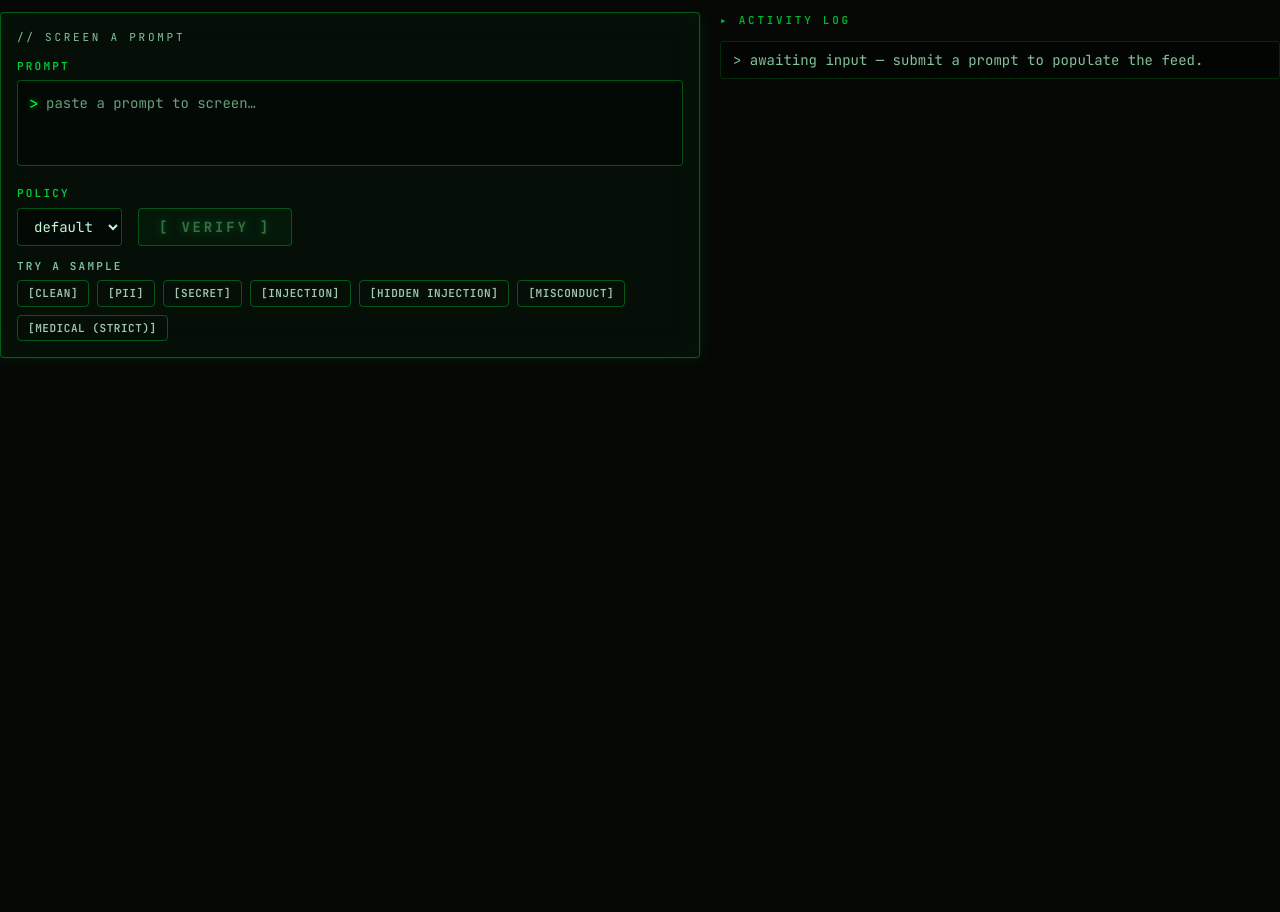
Scenario: Dashboard orchestration › runs verify → feed → replay → renew end to end
// Verify: a verdict card renders and a feed row appears.
In the text box labelled "Prompt": [350, 123] box [17, 80, 683, 166], type "hello world"
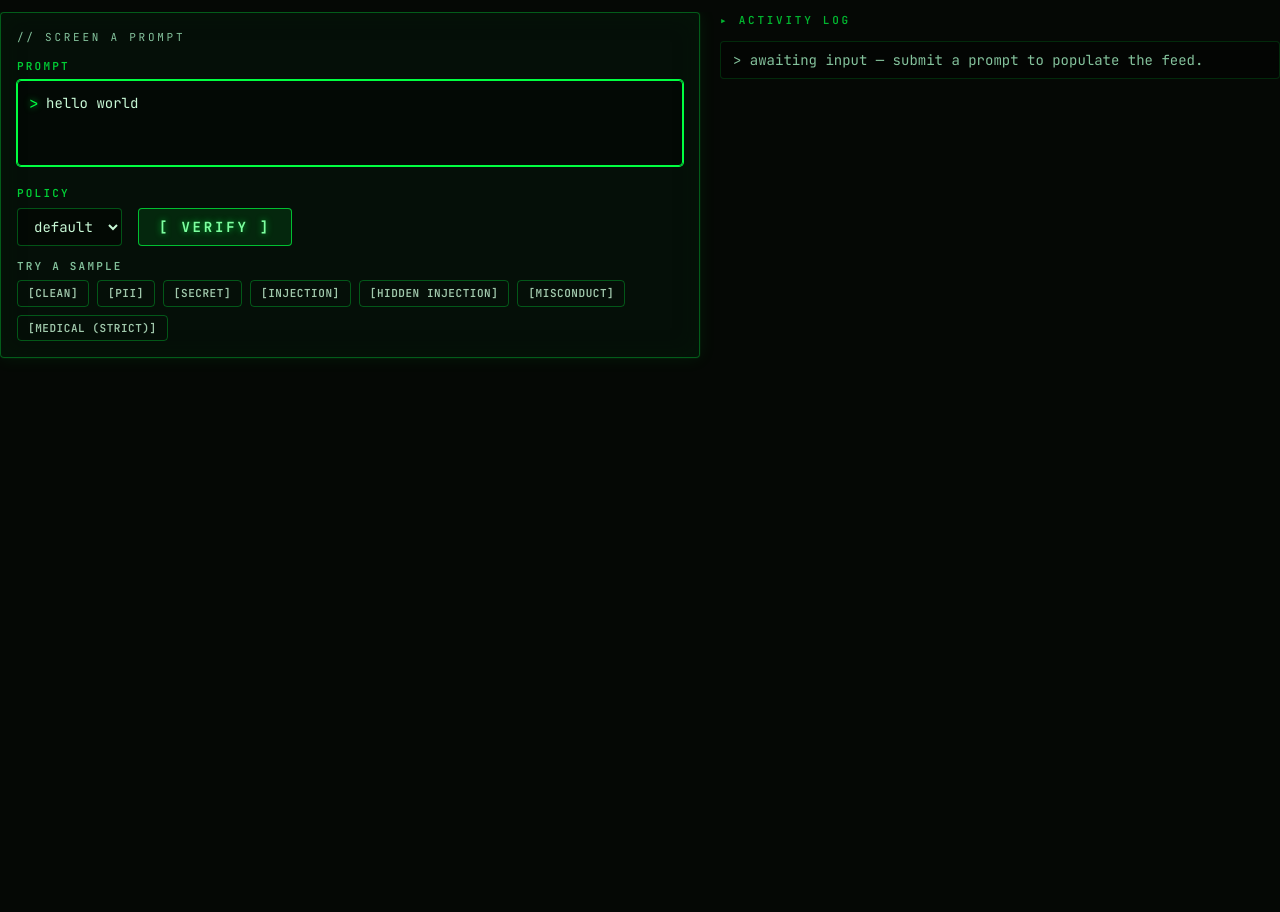
Click the button "[ Verify ]": [215, 226] box [138, 208, 292, 246]
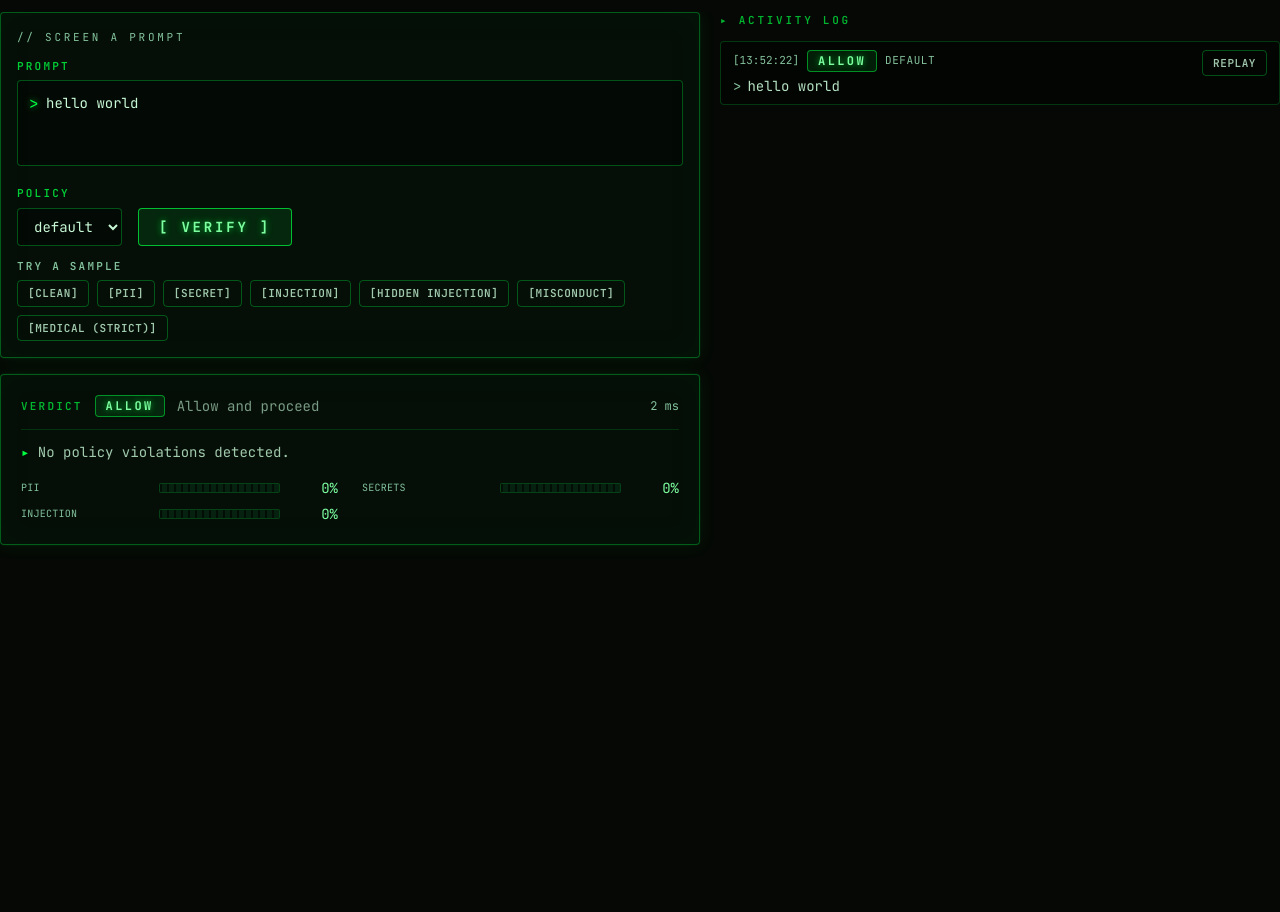
Now the element with test id "verdict-card" is shown, box [0, 374, 700, 545]
Now the list with test id "activity-feed" shows "hello world", box [733, 76, 1190, 96]
// Open replay for that feed row → replay controls appear.
Click the button "Replay": [1235, 63] box [1202, 50, 1267, 76]
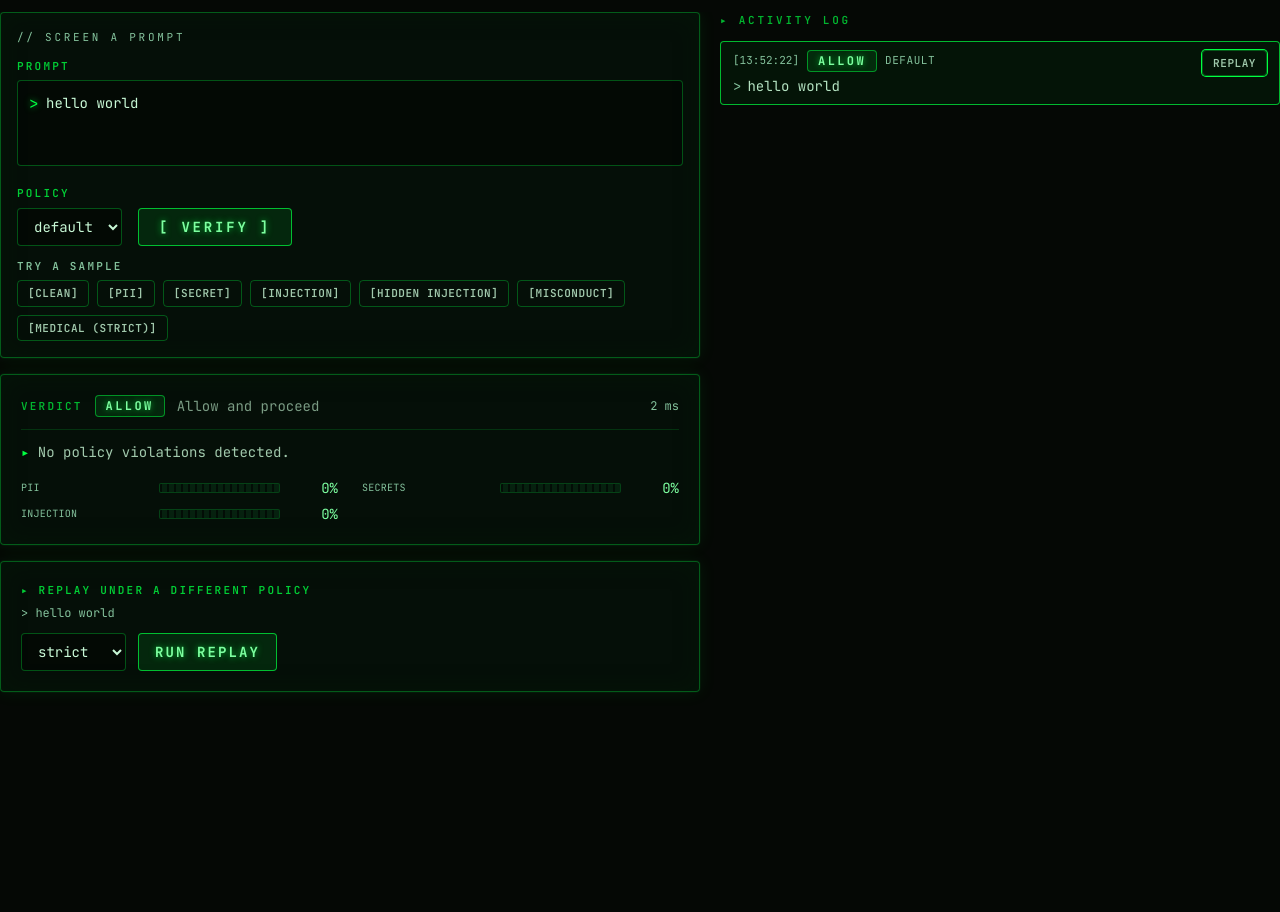
// Run replay → the comparison view renders.
Click the button "Run replay": [208, 652] box [138, 632, 277, 670]
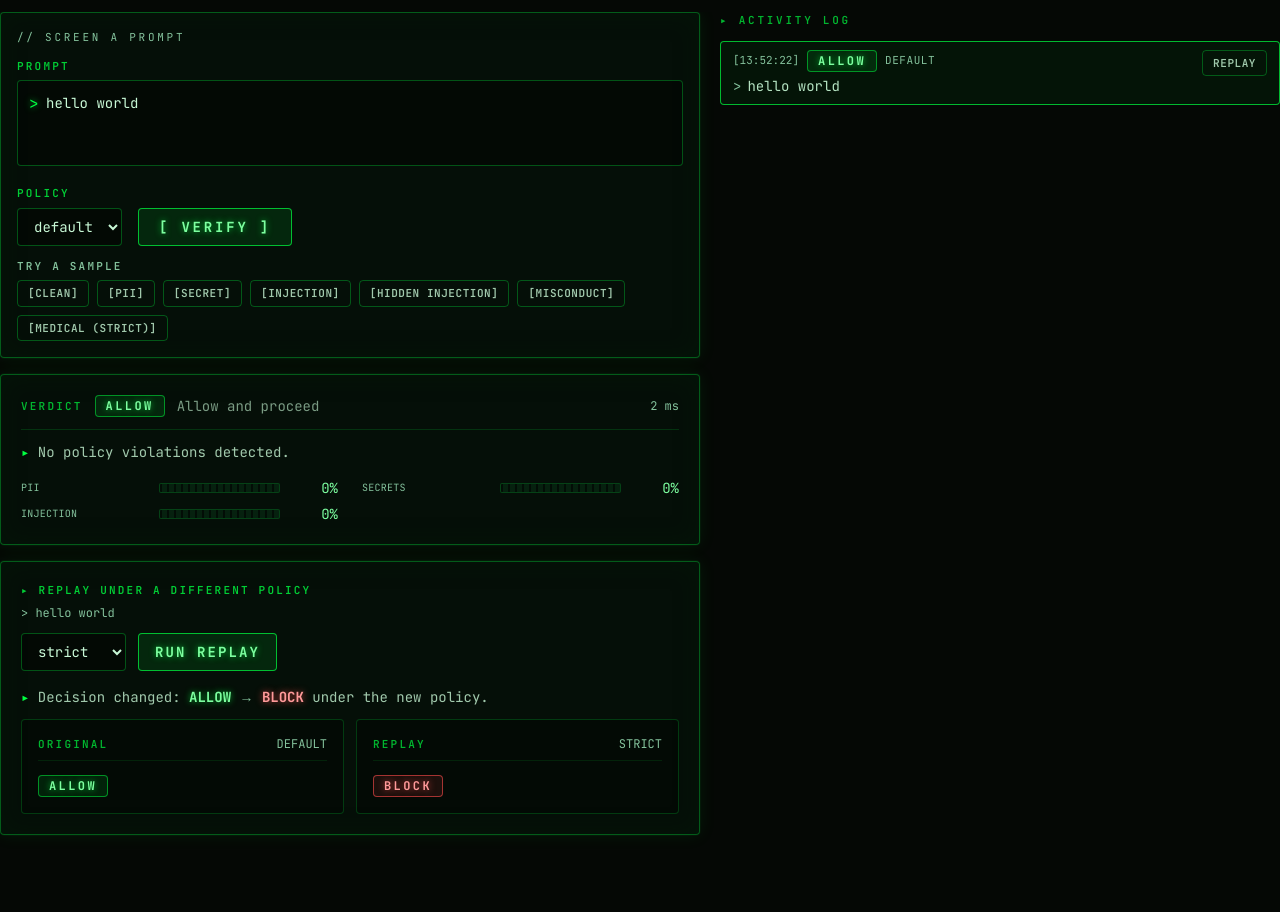
Now the element with test id "replay-summary" shows "Decision changed", box [38, 688, 181, 706]
// Renew: a fresh verify clears the open replay comparison.
Replace the text in the text box labelled "Prompt" with "second prompt": [350, 123] box [17, 80, 683, 166]
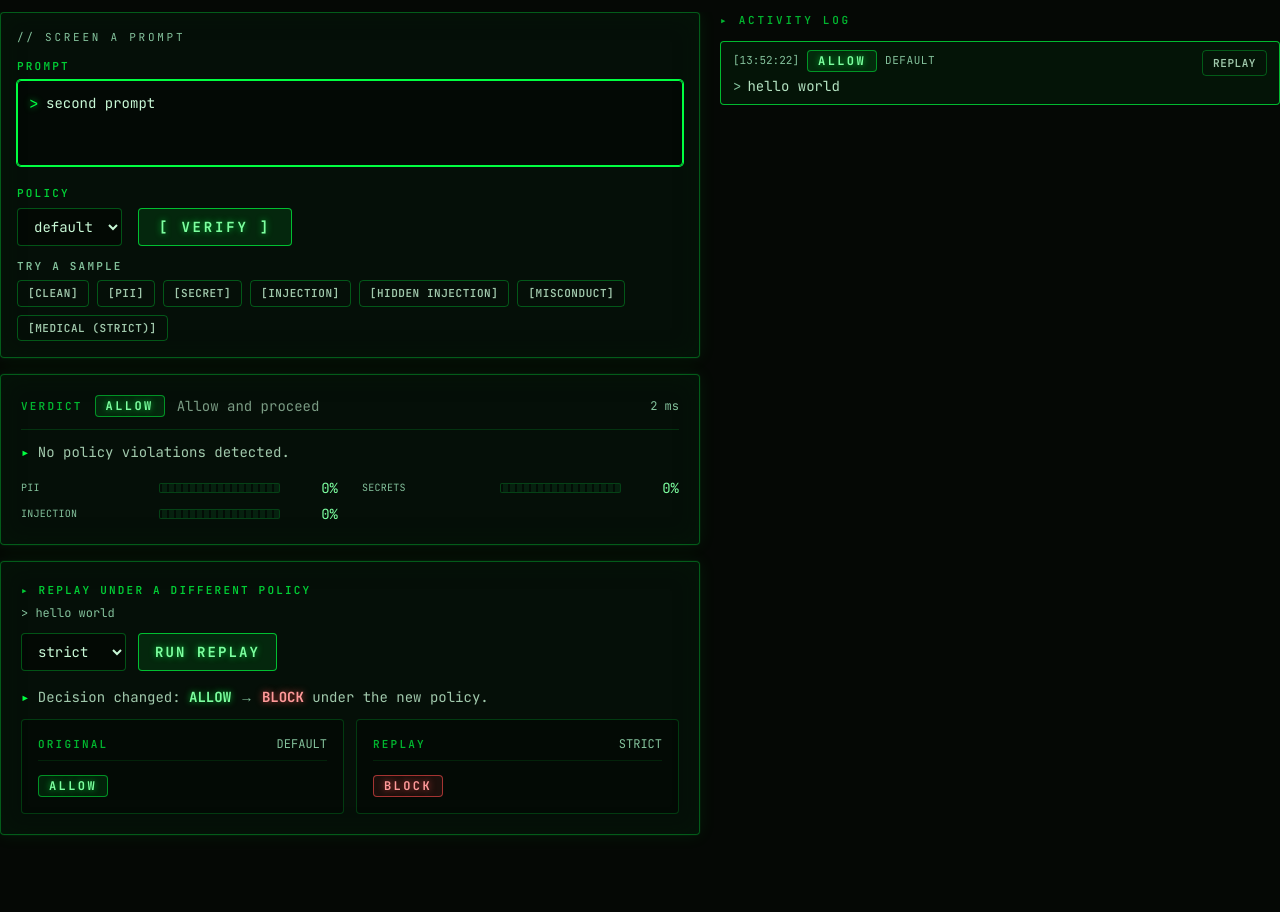
Click the button "[ Verify ]": [215, 226] box [138, 208, 292, 246]
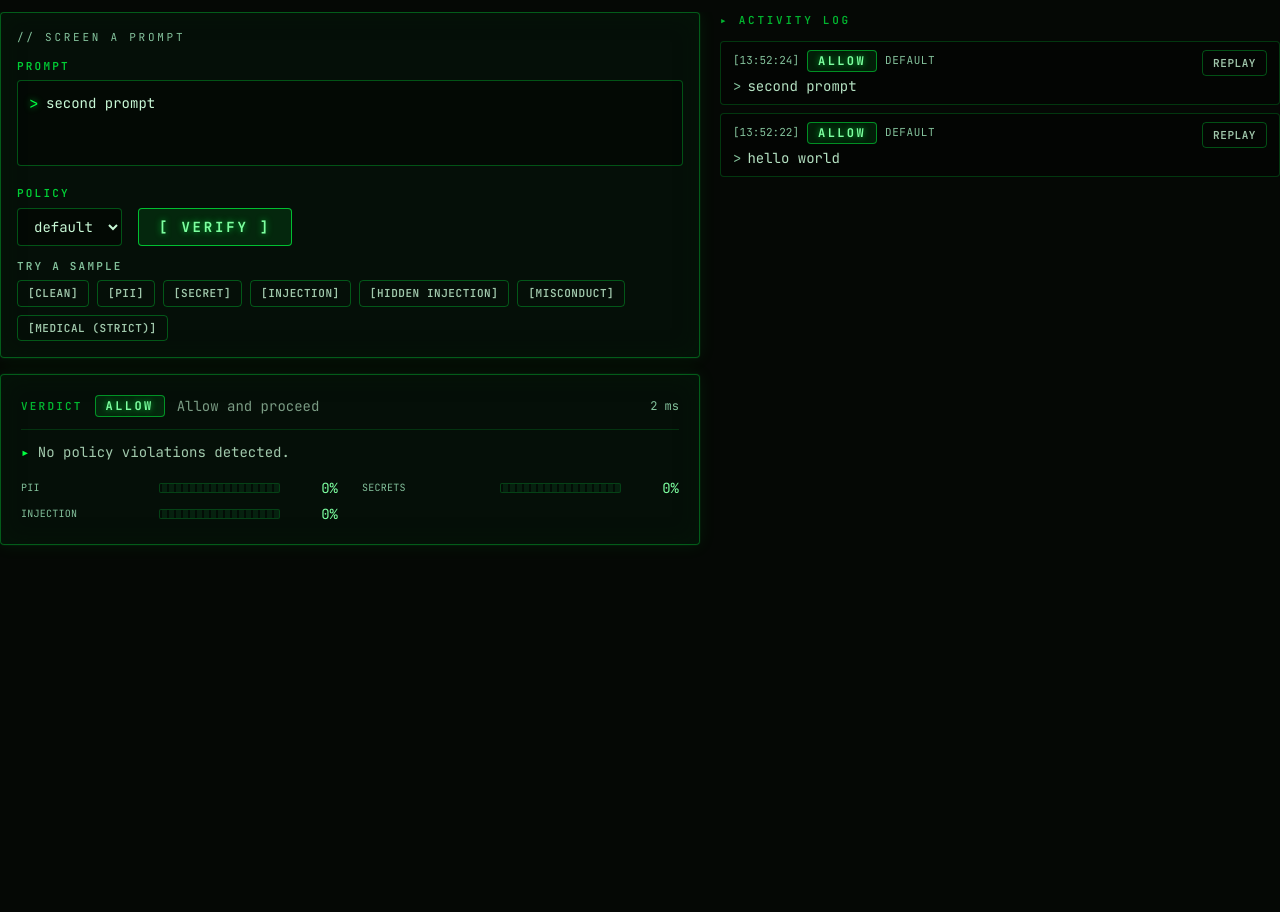
Now the element with test id "replay-summary" is gone
Now the button "Run replay" is gone
